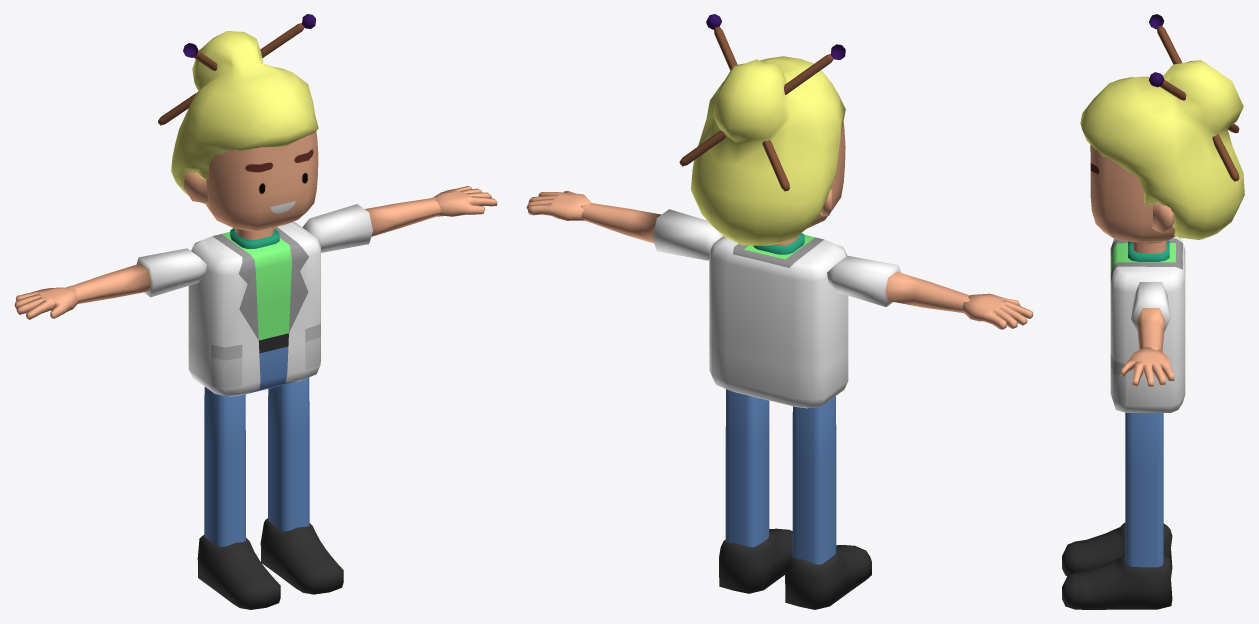
File: NPC_White02_BlondeHair04.gltf
3 renders of one model, left to right at view 1: azimuth 30°, elevation 25°; view 2: azimuth 150°, elevation 25°; view 3: azimuth 270°, elevation 25°, orthographic. The views are drawn at different scales.
Visible parts, largest first — view 1: NPC_Corpo_White2_BlondeHair.004; view 2: NPC_Corpo_White2_BlondeHair.004; view 3: NPC_Corpo_White2_BlondeHair.004.
Boxes of the visible parts, left/top/right/bottom form: NPC_Corpo_White2_BlondeHair.004: left=14, top=14, right=497, bottom=609; NPC_Corpo_White2_BlondeHair.004: left=526, top=14, right=1033, bottom=609; NPC_Corpo_White2_BlondeHair.004: left=1062, top=14, right=1244, bottom=609.
Size of the model in its own units: 2.31 by 2.5 by 0.7676.
Materials: 1 (1 with a texture image).
